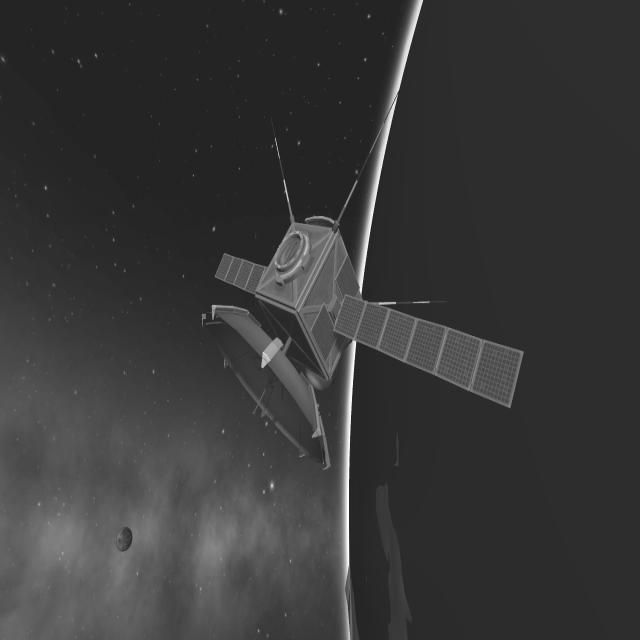satellite: (174, 177, 529, 482)
